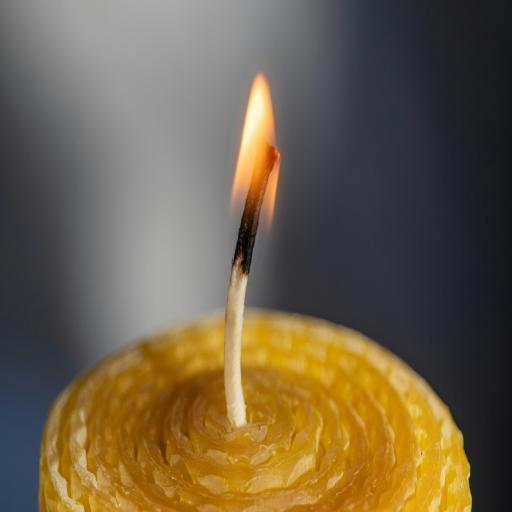candlelight: (220, 74, 284, 434)
